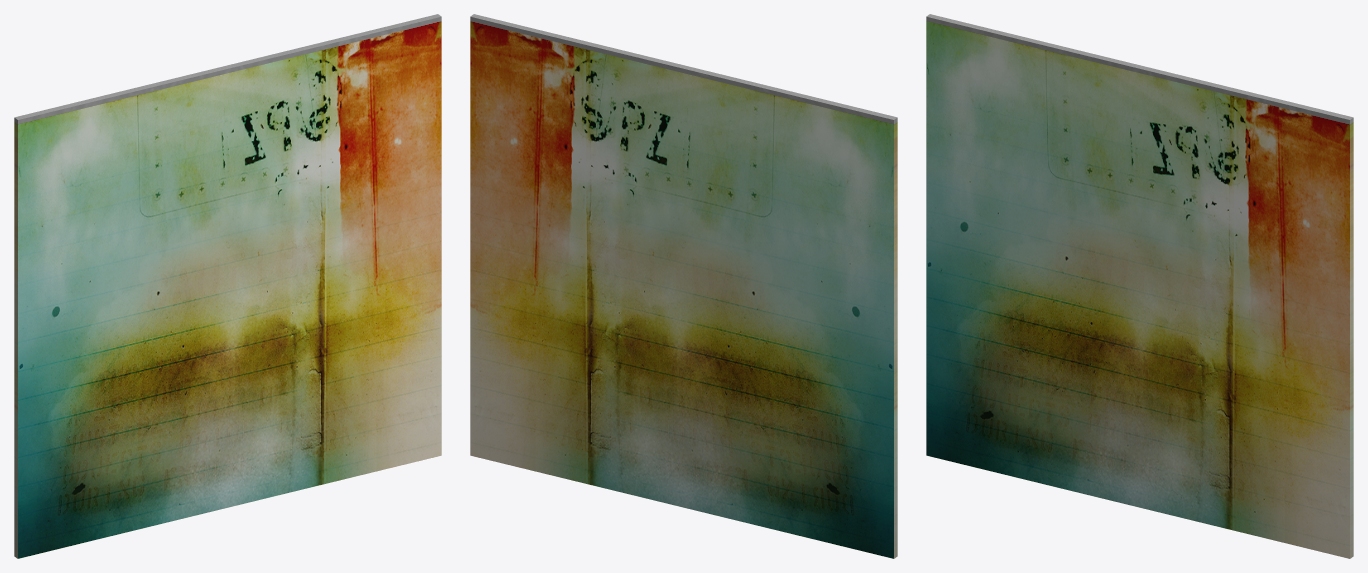
Rendered from Picture7.fbx.
3 renders of one model, left to right at view 1: azimuth 30°, elevation 25°; view 2: azimuth 150°, elevation 25°; view 3: azimuth 330°, elevation 25°, orthographic.
Visible parts, largest first — view 1: Empty_Mesh; view 2: Empty_Mesh; view 3: Empty_Mesh.
Part boxes in pixels (x1,y1,x2,y2): Empty_Mesh: [14, 14, 441, 558]; Empty_Mesh: [470, 14, 897, 558]; Empty_Mesh: [926, 14, 1353, 558].
Bounding box in the file's own units: 243 × 241 × 3.64.
